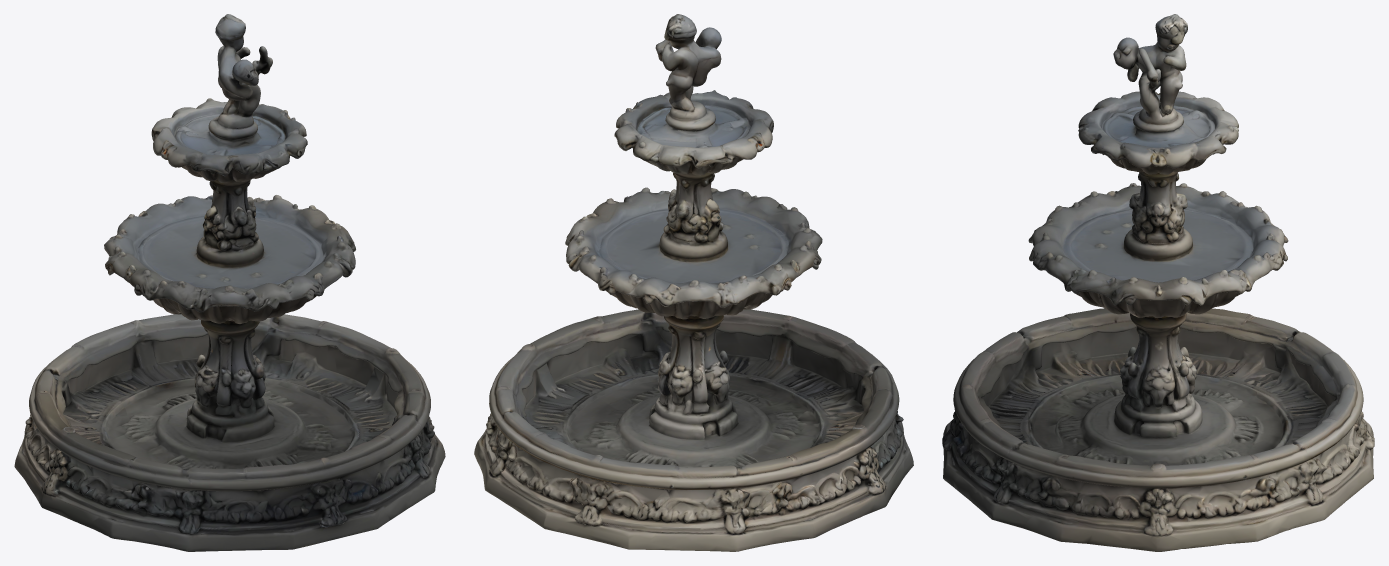
File: plaza-fountain-cherub.glb
The picture shows the model from 3 angles, left to right: view 1: azimuth 30°, elevation 25°; view 2: azimuth 150°, elevation 25°; view 3: azimuth 270°, elevation 25°; orthographic projection. The views are drawn at different scales.
Visible parts, largest first — view 1: tripo_node_cb7a5d73-a21c-4b23-937f-9cd11917bf4f; view 2: tripo_node_cb7a5d73-a21c-4b23-937f-9cd11917bf4f; view 3: tripo_node_cb7a5d73-a21c-4b23-937f-9cd11917bf4f.
Part boxes in pixels (<box>): tripo_node_cb7a5d73-a21c-4b23-937f-9cd11917bf4f: <box>14,14,445,551</box>; tripo_node_cb7a5d73-a21c-4b23-937f-9cd11917bf4f: <box>474,14,913,551</box>; tripo_node_cb7a5d73-a21c-4b23-937f-9cd11917bf4f: <box>942,14,1374,551</box>.
Size of the model in its own units: 3.15 by 4 by 3.08.
1 material, 1 textured.
